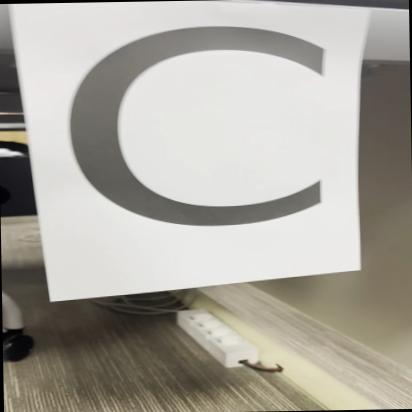seat: (35, 11, 354, 249)
